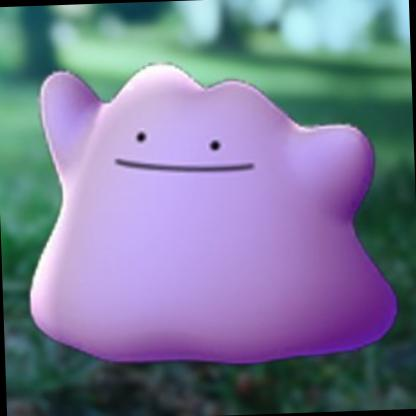Ditto: (1, 1, 416, 416), (26, 36, 416, 416)
